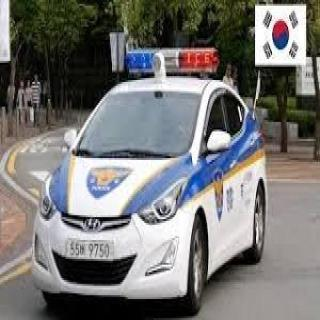Police_car: (34, 48, 268, 314)
